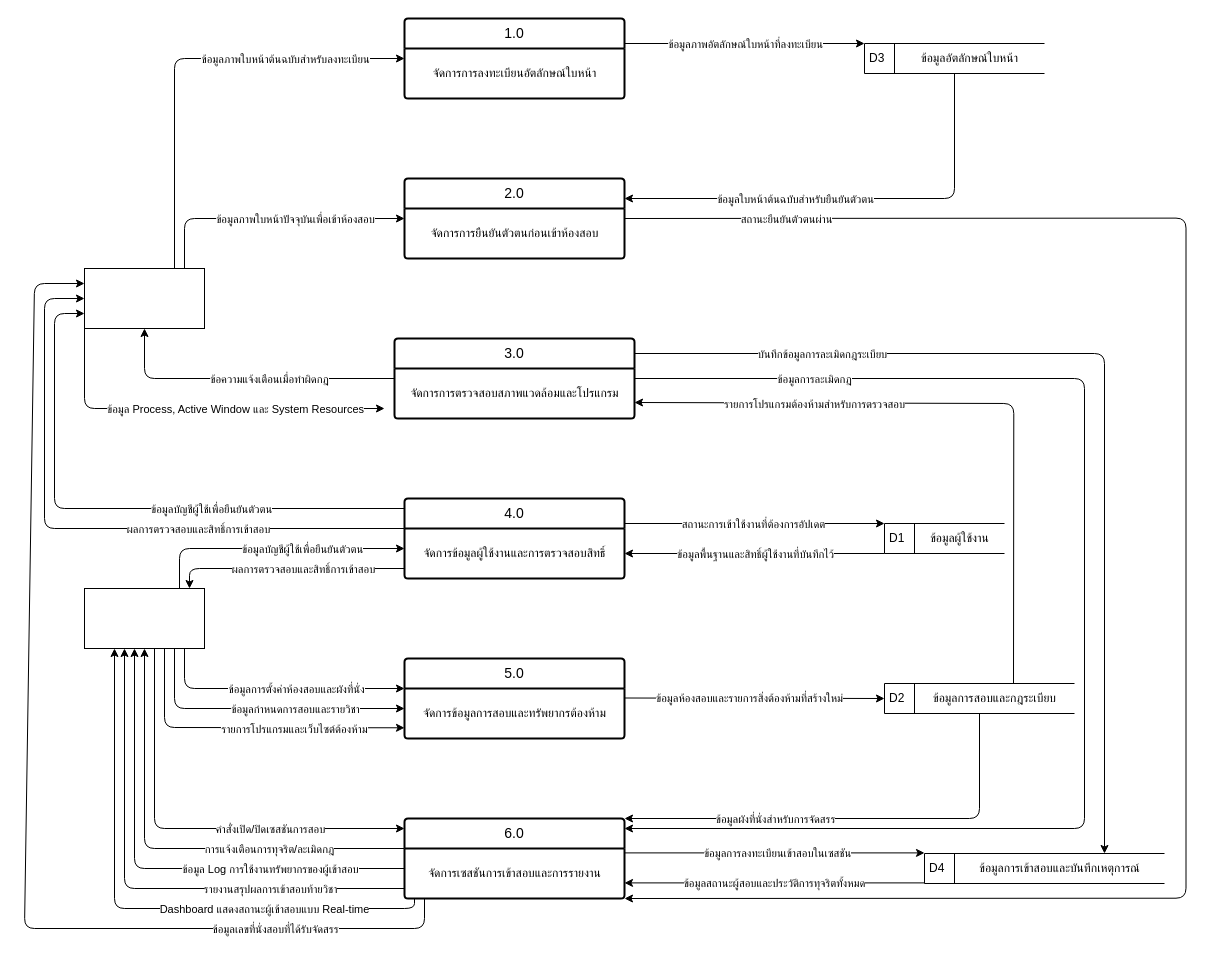
This 1212x954 diagram has some shape labels left out. Here are the shapes that lost their labels. From the top down, the centre of each, then its label:
(x=144, y=298): นักศึกษา
(x=144, y=618): อาจารย์
